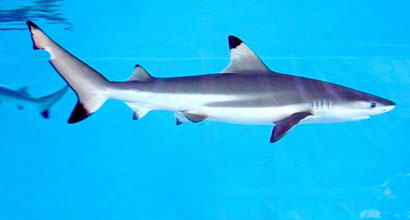shark: (11, 12, 405, 153)
